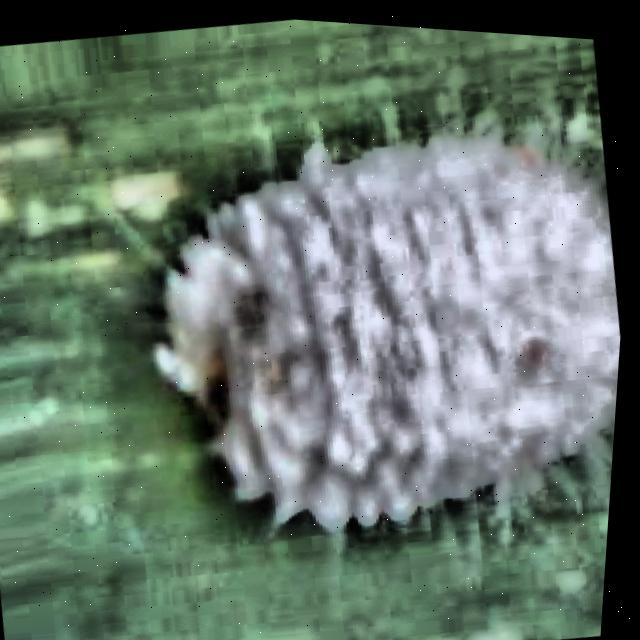Mealy-bug: (0, 32, 638, 636)
